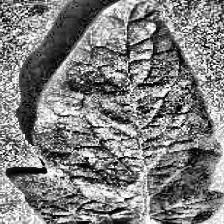spider mites: (11, 0, 224, 224)
